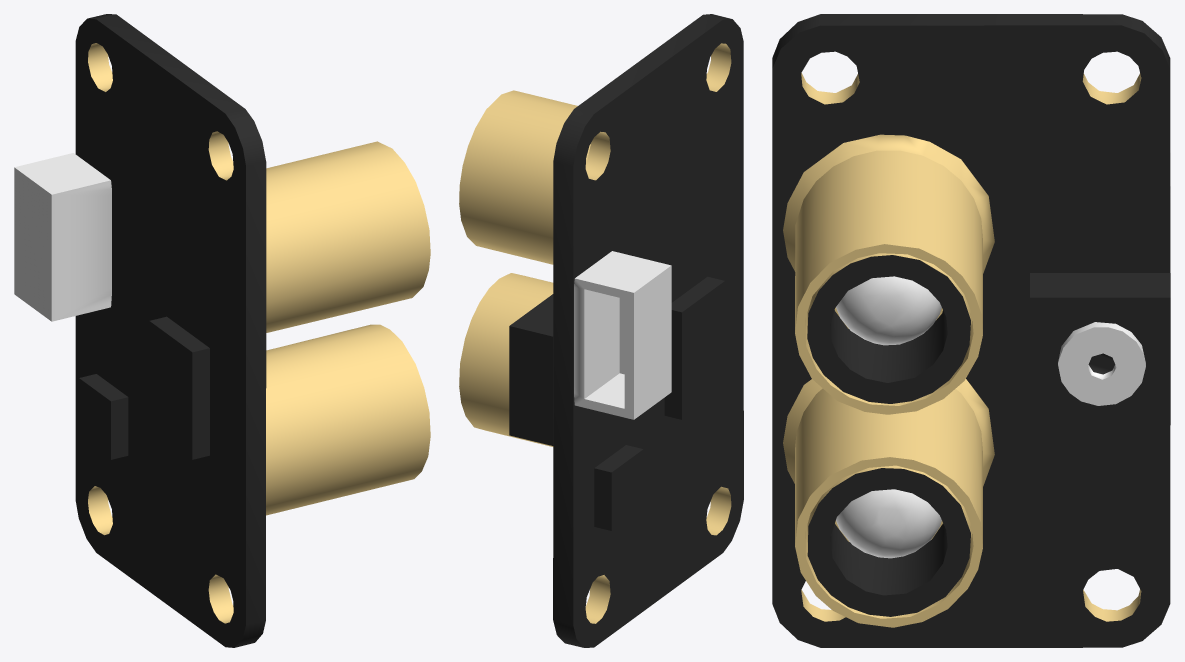
Rendered from mtf01.obj.
3 renders of one model, left to right at view 1: azimuth 30°, elevation 25°; view 2: azimuth 150°, elevation 25°; view 3: azimuth 270°, elevation 25°, orthographic. The views are drawn at different scales.
Visible parts, largest first — view 1: Mico_Air_MTF-01_v1_v2; view 2: Mico_Air_MTF-01_v1_v2; view 3: Mico_Air_MTF-01_v1_v2.
Part boxes in pixels (left/top/right/bottom): Mico_Air_MTF-01_v1_v2: left=14, top=14, right=430, bottom=647; Mico_Air_MTF-01_v1_v2: left=459, top=14, right=743, bottom=647; Mico_Air_MTF-01_v1_v2: left=772, top=14, right=1170, bottom=647.
Size of the model in its own units: 0.0146 by 0.0293 by 0.017.
